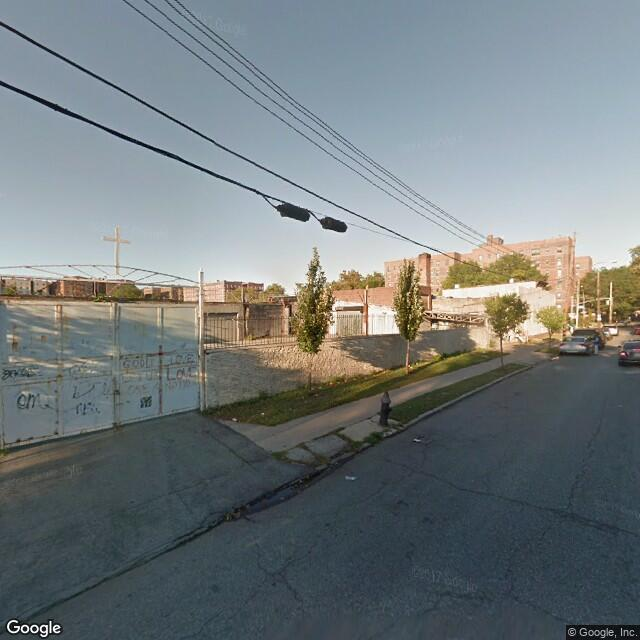litter: (345, 475, 355, 480), (411, 438, 420, 442), (233, 417, 238, 421), (262, 411, 263, 415)
